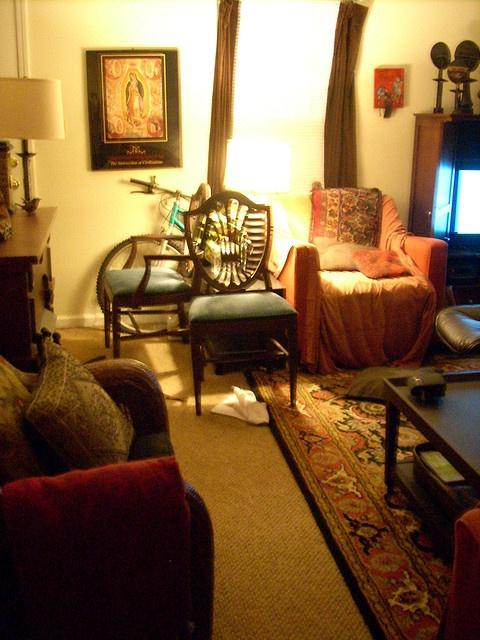Kursi: (183, 189, 299, 417), (101, 182, 193, 359)
